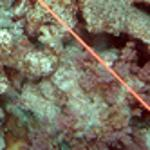dead: (7, 10, 146, 146)
